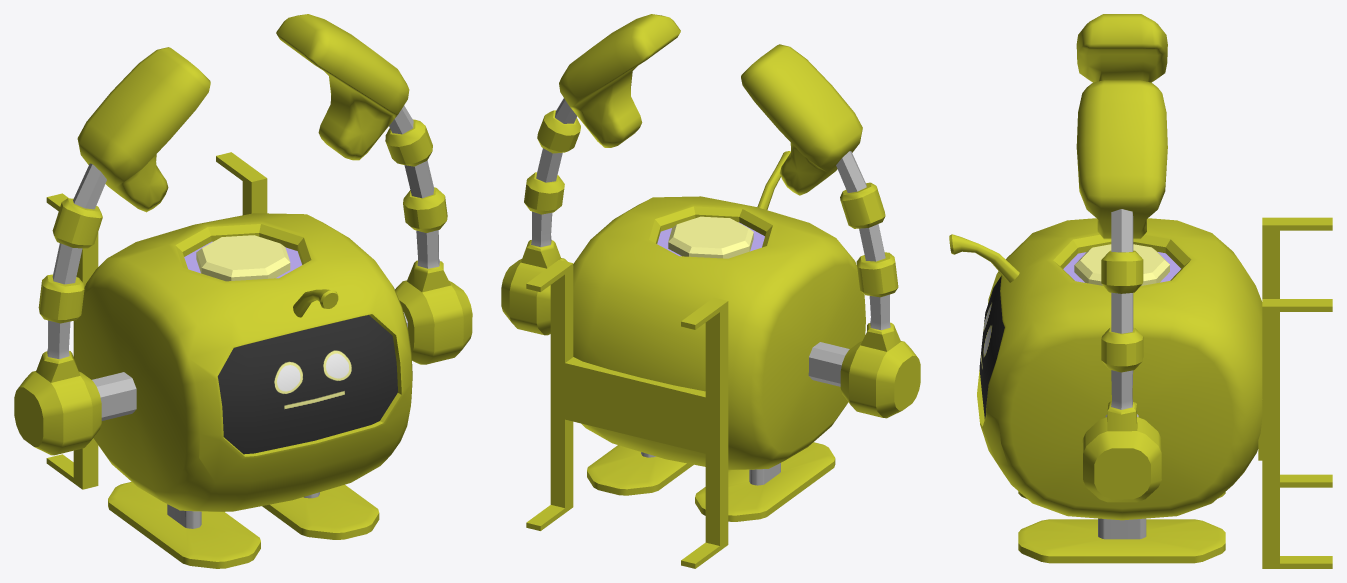
File: Chara_02Y_Anim.fbx
3 views of the same model, side by side, from view 1: azimuth 30°, elevation 25°; view 2: azimuth 150°, elevation 25°; view 3: azimuth 270°, elevation 25° (orthographic). The views are drawn at different scales.
Visible parts, largest first — view 1: Face, pCube48 (×2), R_Hand, L_Hand, R_Leg, L_Leg, pCube51, pCube50, pCube47, Horn; view 2: Face, pCube48 (×2), R_Hand, pCube52, L_Hand, pCube51, pCube50, R_Leg, L_Leg, pCube47, Horn; view 3: Face, pCube48, L_Hand, L_Leg, pCube50, R_Hand, pCube51, Horn.
Part boxes in pixels (x1,y1,x2,y2): Face: [74, 213, 412, 511]; pCube48 (×2): [14, 105, 472, 455]; R_Hand: [77, 47, 210, 212]; L_Hand: [276, 14, 409, 160]; R_Leg: [108, 482, 260, 568]; L_Leg: [262, 484, 379, 539]; pCube51: [46, 193, 98, 489]; pCube50: [216, 152, 267, 215]; pCube47: [92, 372, 136, 420]; Horn: [293, 289, 338, 317]; Face: [573, 196, 865, 470]; pCube48 (×2): [501, 98, 920, 418]; R_Hand: [741, 44, 862, 195]; pCube52: [565, 357, 705, 453]; L_Hand: [559, 14, 680, 147]; pCube51: [681, 297, 728, 568]; pCube50: [526, 260, 573, 530]; R_Leg: [695, 442, 835, 521]; L_Leg: [587, 445, 693, 495]; pCube47: [808, 342, 849, 386]; Horn: [757, 151, 790, 209]; Face: [977, 218, 1262, 520]; pCube48: [1082, 209, 1161, 502]; L_Hand: [1076, 80, 1167, 239]; L_Leg: [1018, 518, 1225, 563]; pCube50: [1262, 299, 1332, 568]; R_Hand: [1076, 14, 1167, 82]; pCube51: [1262, 217, 1332, 487]; Horn: [949, 234, 1019, 282].
Bounding box in the file's own units: 186 × 198 × 146.
